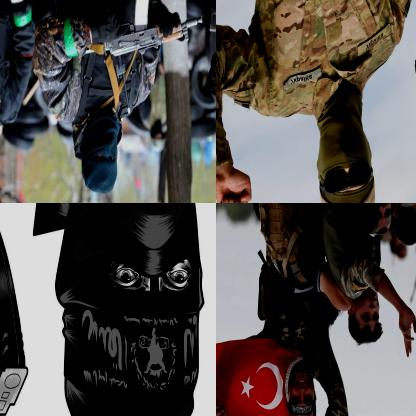rifle: (81, 0, 207, 62)
